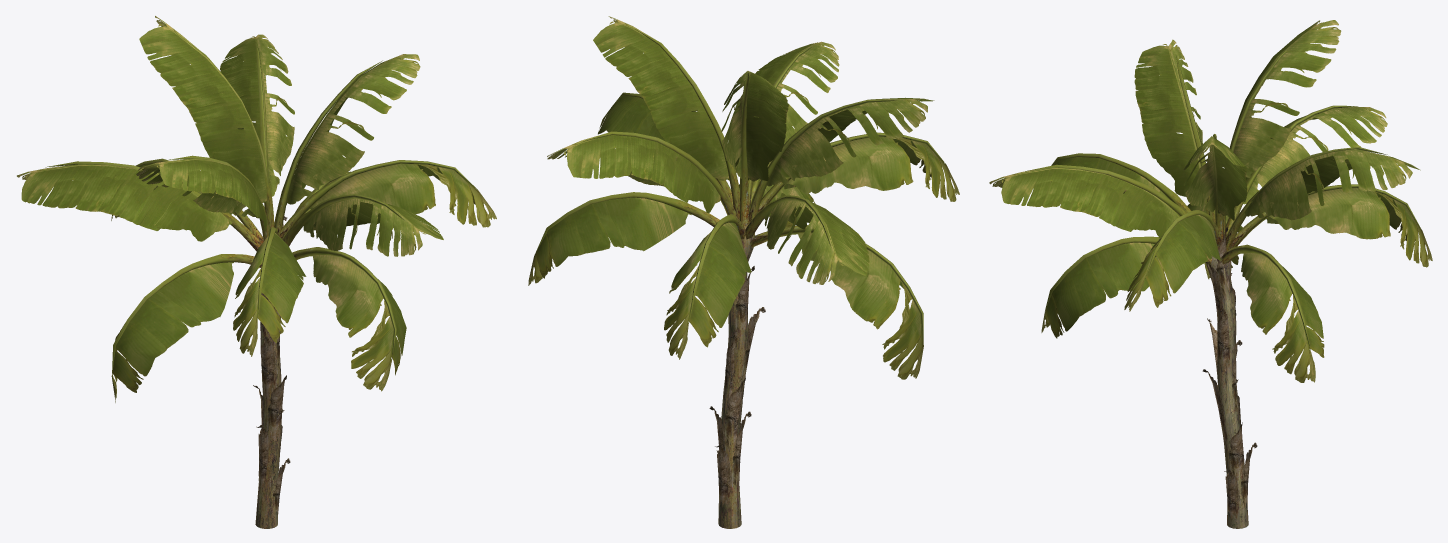
File: MidBanana-Model.fbx
3 views of the same model, side by side, from view 1: azimuth 30°, elevation 25°; view 2: azimuth 150°, elevation 25°; view 3: azimuth 270°, elevation 25° (orthographic). The views are drawn at different scales.
Visible parts, largest first — view 1: banana.001; view 2: banana.001; view 3: banana.001.
Boxes of the visible parts, <box> form: banana.001: <box>17,16,496,528</box>; banana.001: <box>528,16,959,528</box>; banana.001: <box>989,20,1432,528</box>.
Size of the model in its own units: 3758 by 4769 by 4016.
